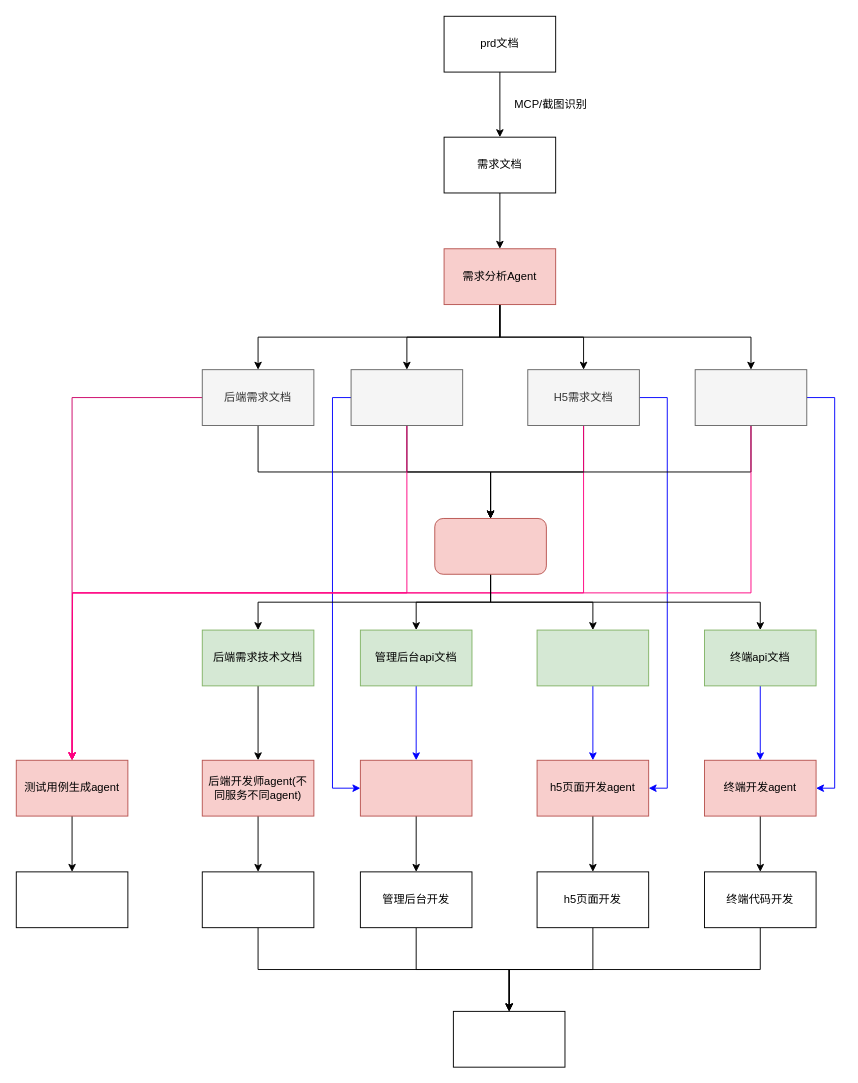
Image size: 858x1083. Some labels were removed from this diagram. The centre of each missing label's shape, as x and y in pixels:
H5端api文档: the point at 592,657
发布测试环境: the point at 508,1038
后端代码开发: the point at 257,899
后端技术架构agent: the point at 490,546
生成测试用例/自动化: the point at 71,899
管理后台需求文档: the point at 406,397
终端需求文档: the point at 750,397
银河后台开发agent/蜜源管理后台开发agent: the point at 415,787
